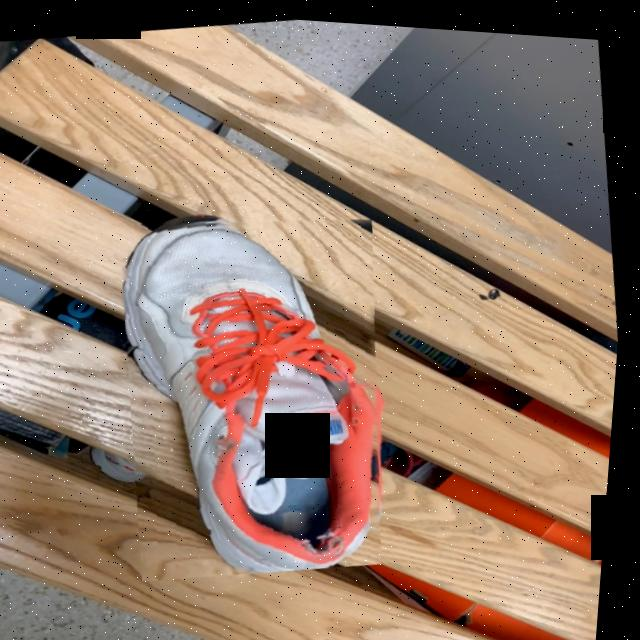shoe: (127, 219, 385, 570)
